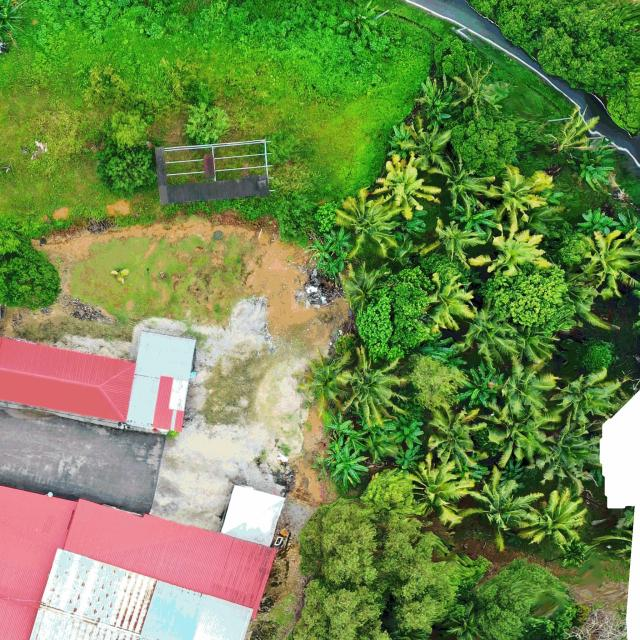Tree: (378, 522, 489, 636), (474, 556, 575, 640), (356, 266, 436, 365), (300, 498, 381, 588), (456, 471, 542, 554), (281, 577, 390, 640), (336, 344, 410, 428), (480, 164, 556, 240), (442, 302, 520, 375), (478, 265, 570, 326), (540, 410, 602, 499), (481, 398, 558, 469), (405, 451, 475, 524), (424, 149, 497, 216), (425, 399, 488, 476), (334, 190, 402, 261), (517, 489, 589, 552), (372, 156, 440, 222), (0, 241, 62, 310), (550, 371, 620, 432), (577, 230, 640, 296), (417, 216, 488, 271), (500, 355, 558, 420), (293, 351, 354, 412), (391, 113, 453, 172), (470, 231, 544, 279), (450, 59, 507, 120), (407, 352, 467, 408), (98, 142, 159, 196), (421, 274, 475, 333), (414, 74, 464, 128), (342, 257, 392, 311), (360, 467, 414, 514), (455, 359, 505, 408), (502, 322, 562, 362), (181, 102, 233, 146), (108, 108, 150, 146), (338, 0, 379, 38), (418, 336, 468, 366), (331, 451, 371, 487), (578, 156, 614, 192), (579, 207, 620, 234), (395, 418, 425, 448), (387, 122, 411, 158), (395, 444, 426, 470), (324, 408, 354, 434), (617, 209, 640, 240), (322, 435, 346, 462), (351, 430, 368, 452)
